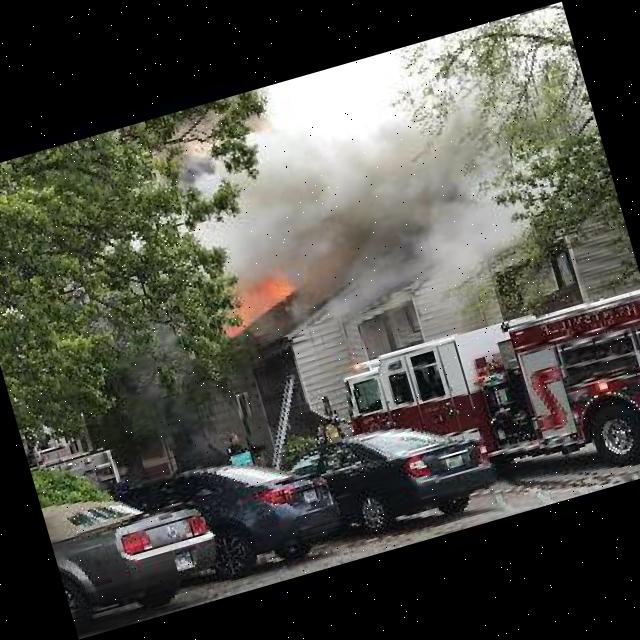fire: (167, 66, 540, 353)
